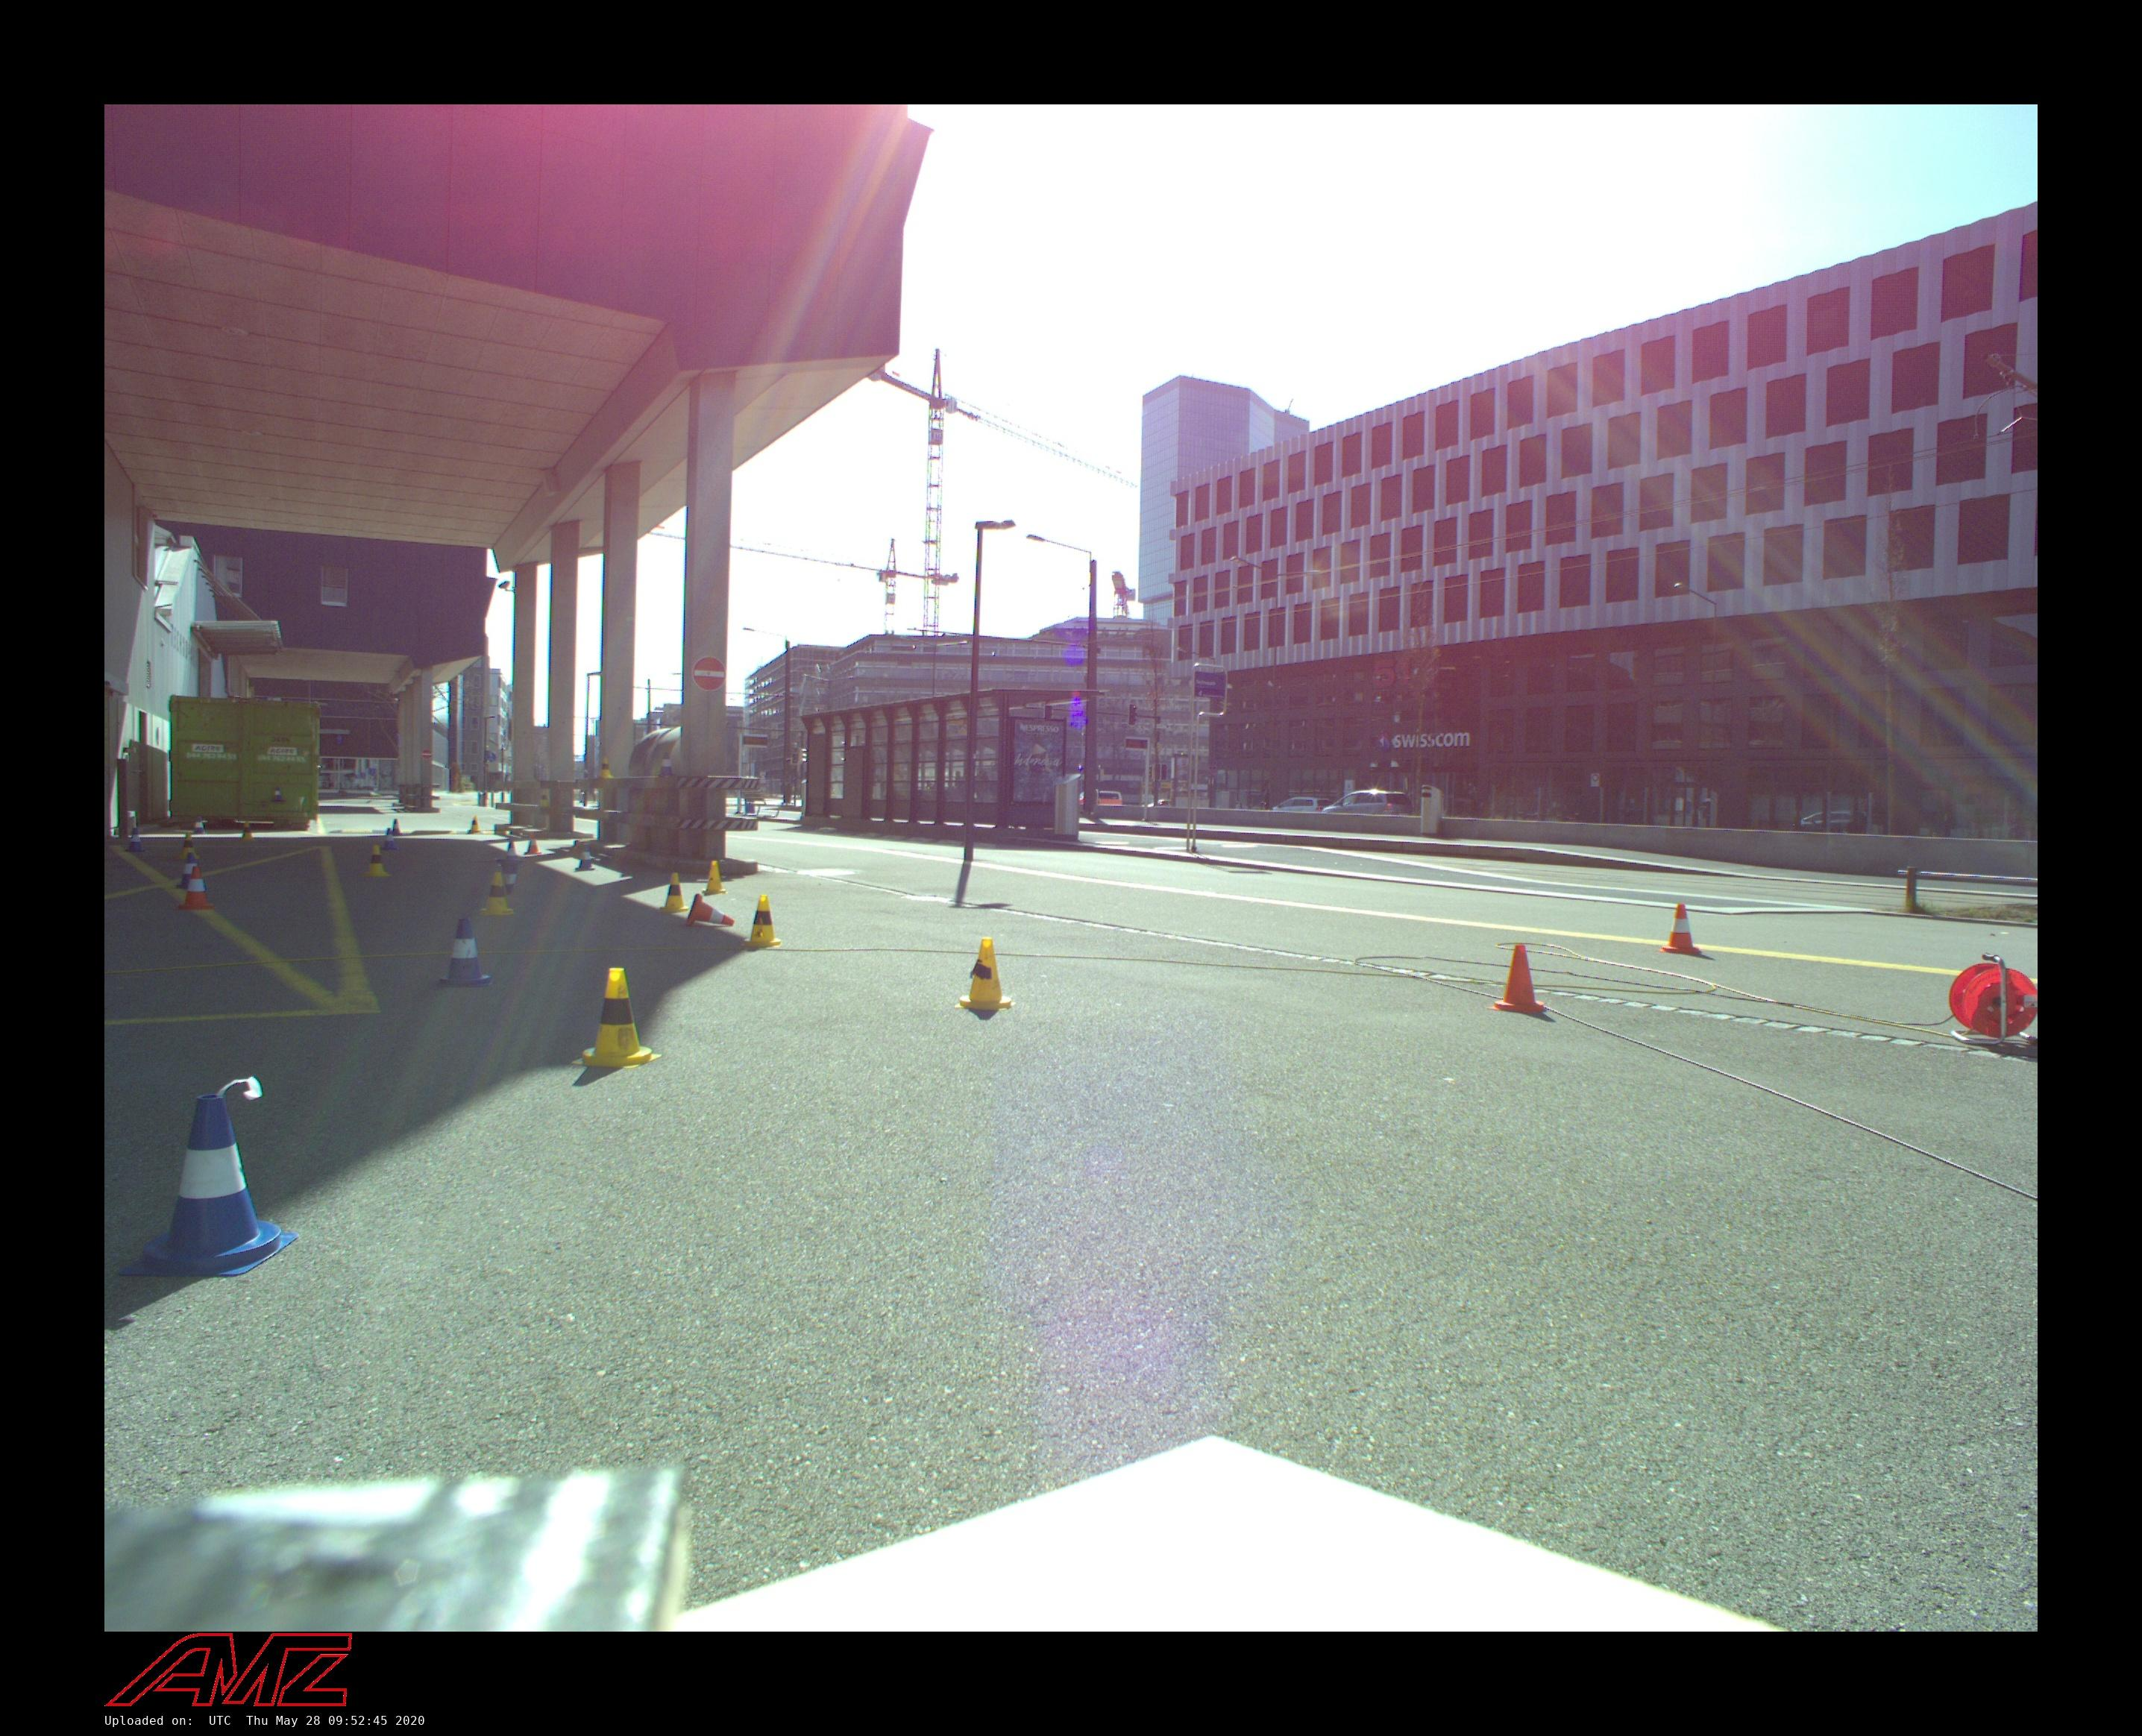blue_cone: (119, 1095, 298, 1277), (437, 918, 495, 987), (176, 853, 207, 891), (496, 859, 523, 894), (576, 844, 595, 871), (125, 828, 145, 852), (501, 841, 522, 865), (657, 752, 676, 776), (381, 828, 398, 850), (192, 817, 206, 834), (390, 819, 402, 836), (271, 787, 284, 802)
orange_cone: (1486, 944, 1548, 1014), (1659, 904, 1706, 953), (177, 866, 218, 911), (685, 893, 735, 926), (524, 834, 542, 855)
yellow_cone: (571, 968, 662, 1069), (955, 938, 1017, 1011), (742, 895, 782, 947), (480, 872, 515, 916), (659, 872, 690, 913), (702, 861, 728, 895), (364, 845, 390, 877), (178, 832, 201, 861), (240, 821, 257, 843), (597, 758, 614, 779), (538, 789, 550, 807), (469, 815, 481, 832)
